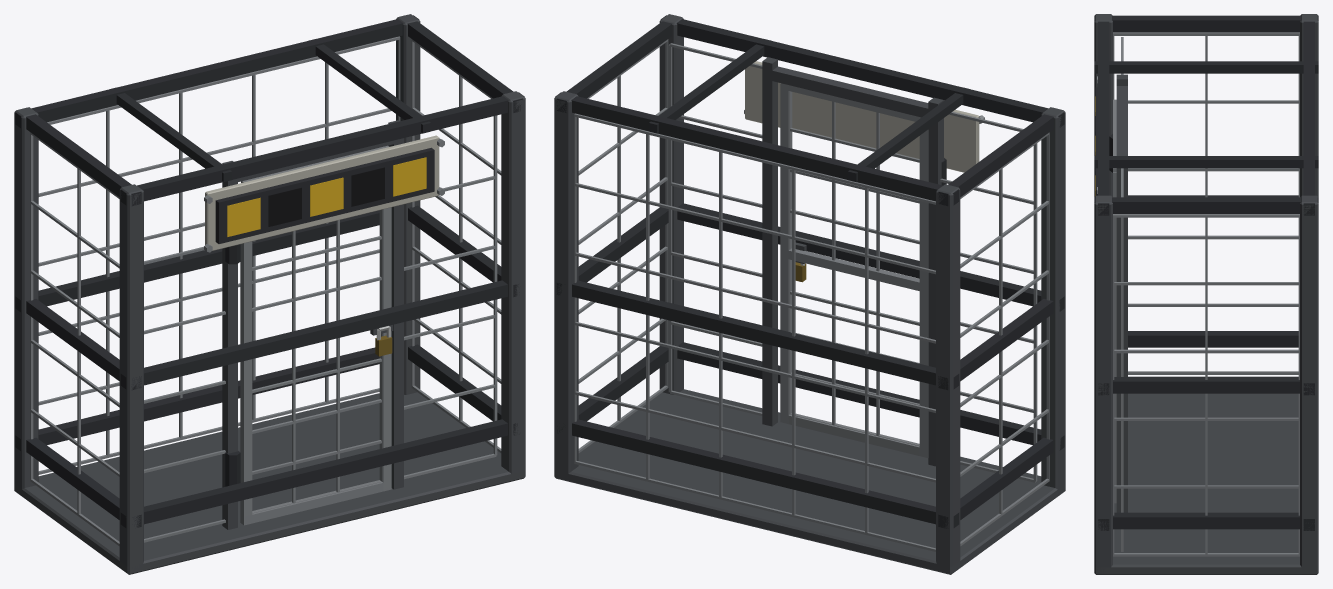
File: prop_supply_cage.fbx
The picture shows the model from 3 angles, left to right: view 1: azimuth 30°, elevation 25°; view 2: azimuth 150°, elevation 25°; view 3: azimuth 270°, elevation 25°; orthographic projection. The views are drawn at different scales.
Parts seen in each view (by area): view 1: prop_supply_cage; view 2: prop_supply_cage; view 3: prop_supply_cage.
Boxes of the visible parts, box(x1,y1,x2,y2) form: prop_supply_cage: box(14, 14, 525, 574); prop_supply_cage: box(554, 14, 1065, 574); prop_supply_cage: box(1094, 14, 1318, 574).
Size of the model in its own units: 2.4 by 2.2 by 1.2.
